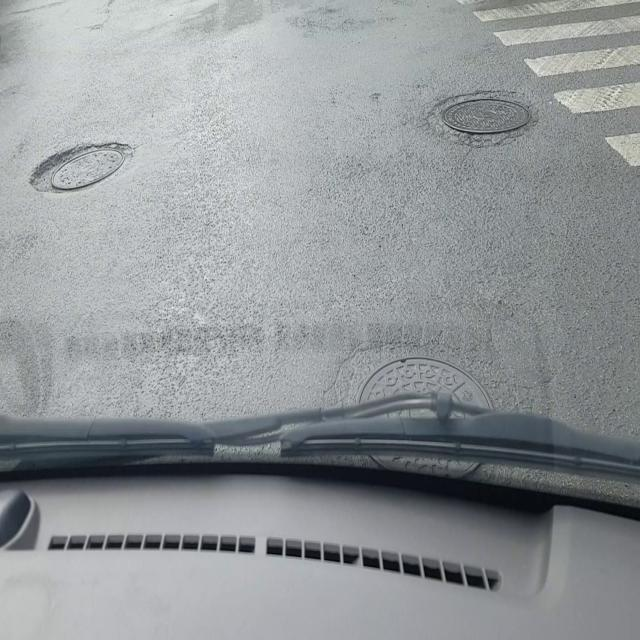Pothole: (27, 139, 136, 197)
